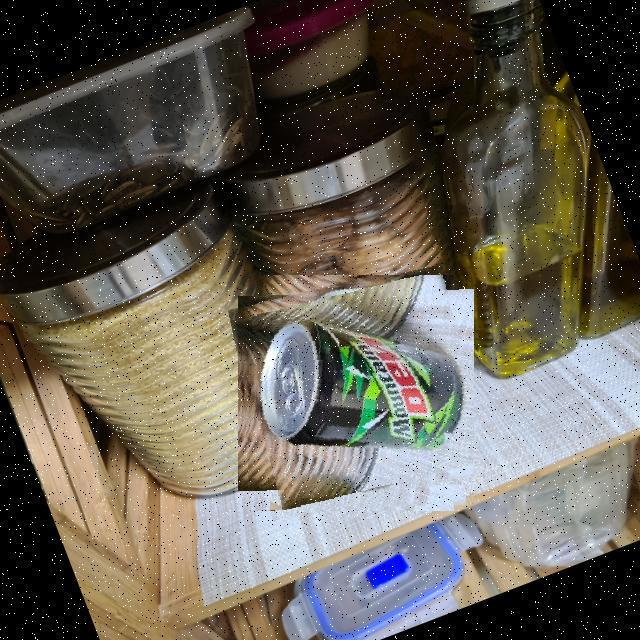recyclable: (238, 275, 474, 511)
